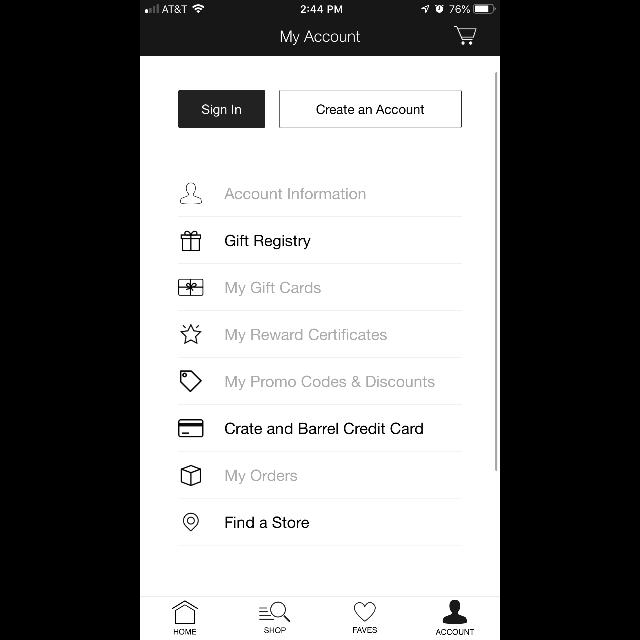icon: (172, 600, 198, 624), (260, 602, 290, 622), (443, 600, 467, 624), (180, 183, 202, 205), (180, 230, 202, 252), (180, 370, 202, 392), (178, 278, 204, 296), (178, 419, 204, 437), (180, 324, 202, 344), (354, 602, 376, 622), (454, 27, 476, 46), (183, 512, 199, 532)
image: (180, 466, 202, 486)
text: (226, 376, 434, 390), (226, 328, 387, 344), (225, 422, 423, 434), (224, 188, 366, 200), (225, 234, 311, 250), (226, 282, 320, 296), (280, 31, 360, 45), (225, 470, 297, 484), (225, 516, 308, 528), (436, 629, 474, 635), (353, 627, 377, 633), (264, 627, 286, 633), (174, 629, 196, 635)
textbutton: (280, 90, 462, 128), (178, 90, 266, 128)
uppertaskbar: (140, 0, 500, 14)
